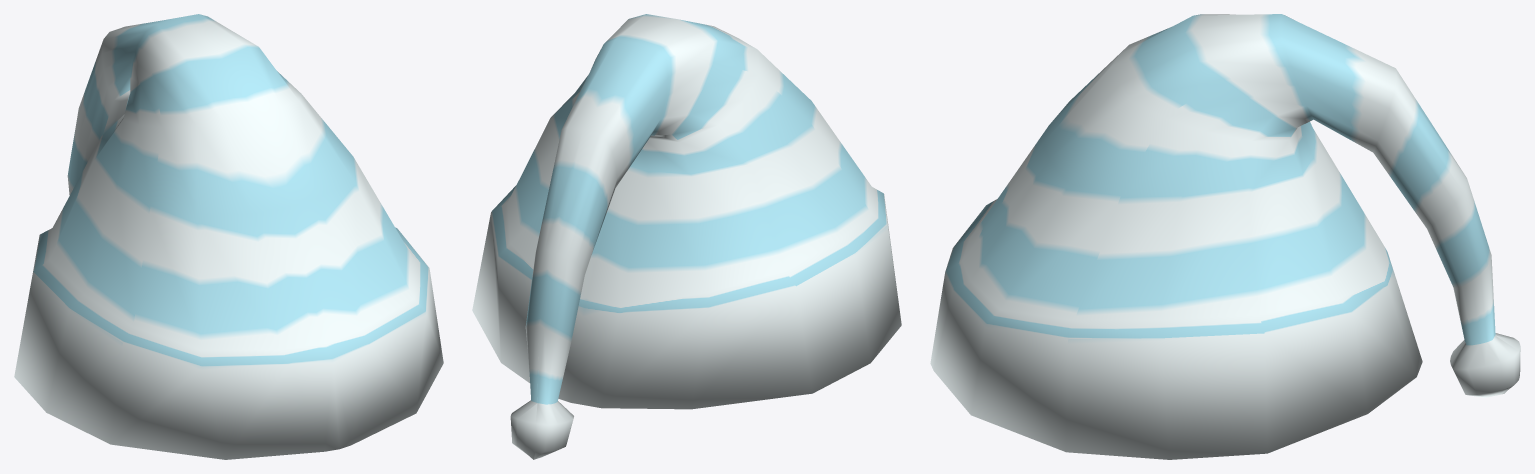
Rendered from gorro.glb.
3 renders of one model, left to right at view 1: azimuth 30°, elevation 25°; view 2: azimuth 150°, elevation 25°; view 3: azimuth 270°, elevation 25°, orthographic. The views are drawn at different scales.
Visible parts, largest first — view 1: gorro; view 2: gorro; view 3: gorro.
Part boxes in pixels (x1,y1,x2,y2): gorro: (14, 14, 443, 459); gorro: (472, 14, 901, 459); gorro: (930, 14, 1520, 459).
Size of the model in its own units: 0.2194 by 0.1974 by 0.2819.
1 material, 1 textured.
